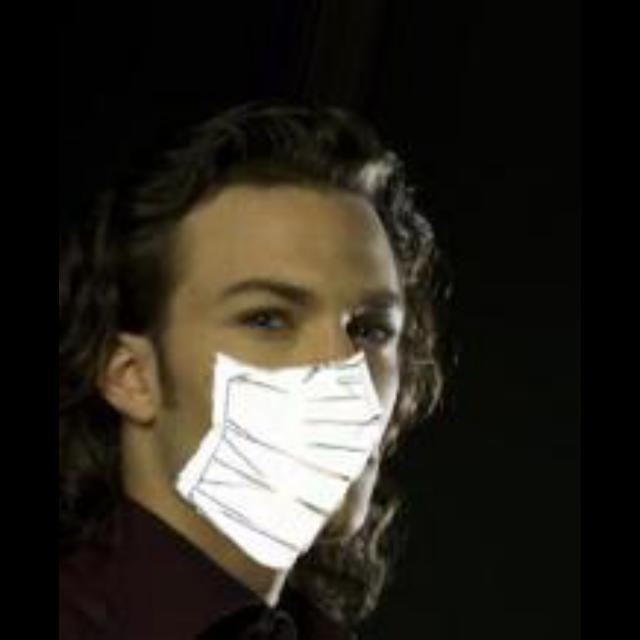suspicion: (104, 88, 473, 584)
